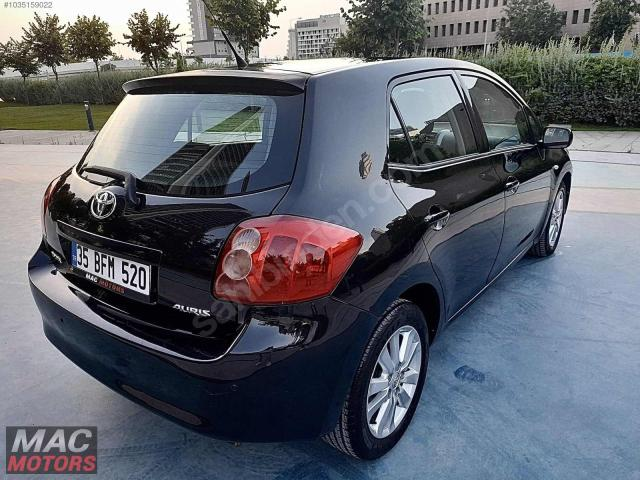plaka: (70, 242, 150, 295)
